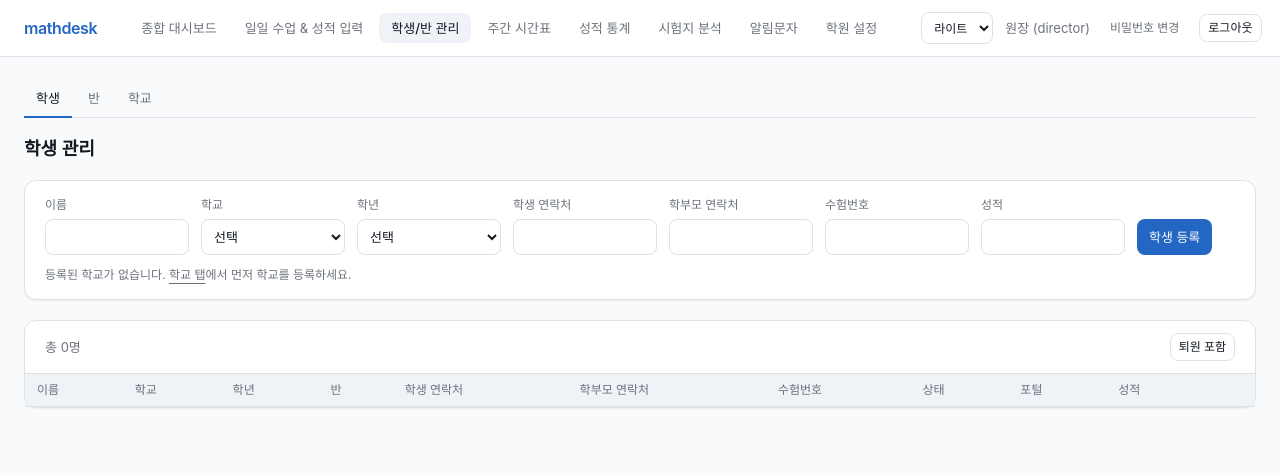
Test: switches between the student and class tabs
Step 1. Click the link "반" → [94, 98], box [88,90,100,106]
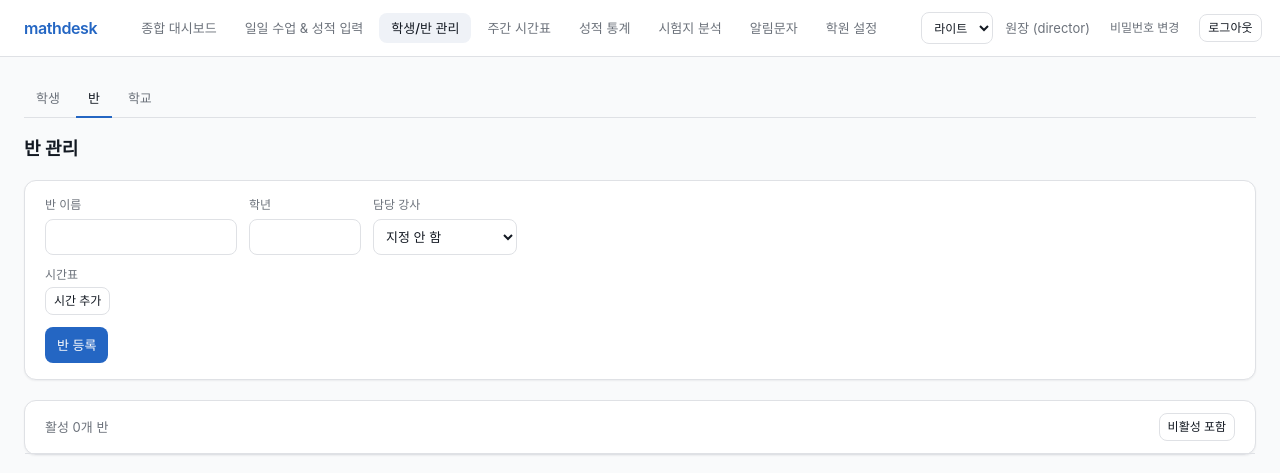
Check: the heading "반 관리" is shown, box [24,138,78,160]
Step 2. Click the link "학생" → [48, 98], box [36,90,60,106]
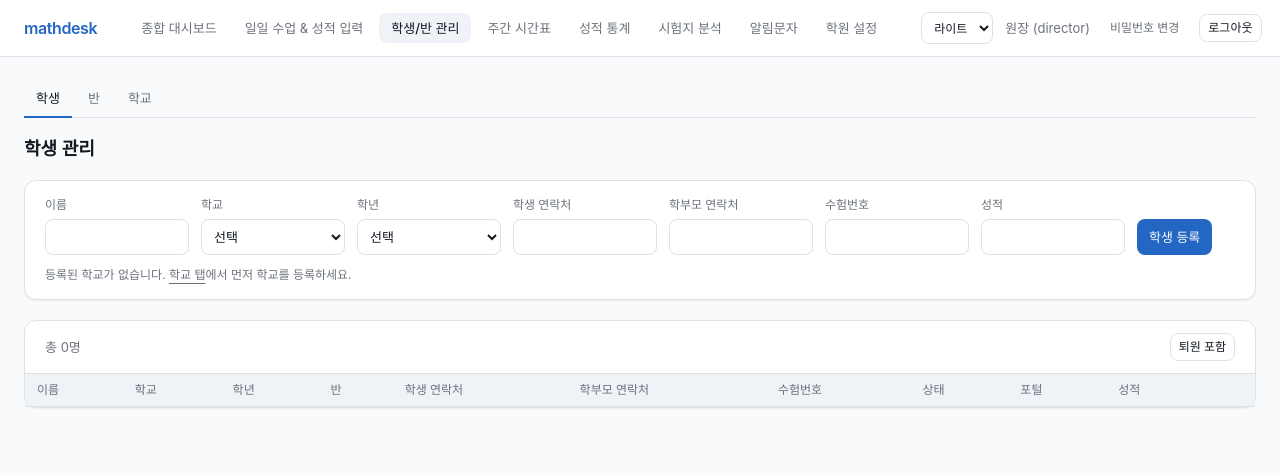
Check: the heading "학생 관리" is shown, box [24,138,95,160]
